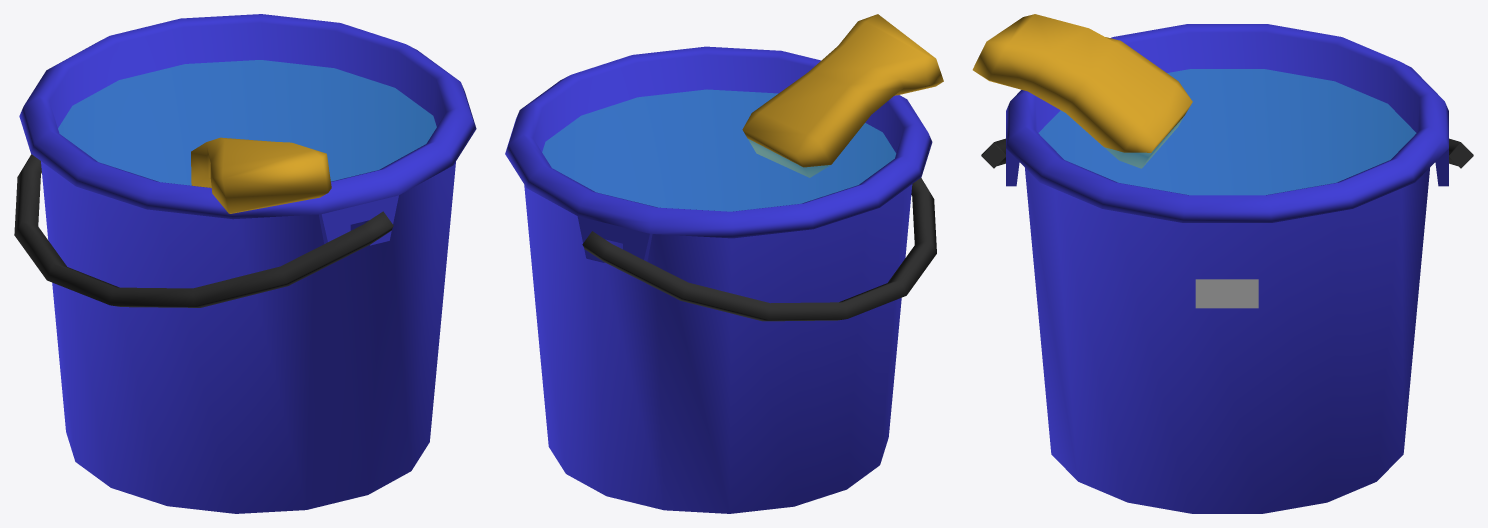
File: Bucket.fbx
3 views of the same model, side by side, from view 1: azimuth 30°, elevation 25°; view 2: azimuth 150°, elevation 25°; view 3: azimuth 270°, elevation 25° (orthographic). The views are drawn at different scales.
Parts seen in each view (by area): view 1: Bucket, Water, Handle, Sponge; view 2: Bucket, Water, Sponge, Handle; view 3: Bucket, Water, Sponge, Logo, Handle.
Boxes of the visible parts, <box> form: Bucket: <box>19,14,476,513</box>; Water: <box>58,60,436,185</box>; Handle: <box>14,154,393,307</box>; Sponge: <box>191,137,331,213</box>; Bucket: <box>505,46,932,513</box>; Water: <box>542,89,896,211</box>; Sponge: <box>742,14,943,177</box>; Handle: <box>582,178,936,321</box>; Bucket: <box>1006,24,1448,513</box>; Water: <box>1038,69,1416,195</box>; Sponge: <box>972,14,1192,168</box>; Logo: <box>1195,279,1258,308</box>; Handle: <box>981,138,1473,168</box>.
Size of what is drawn, in the model's own units: 251 by 230 by 279.
